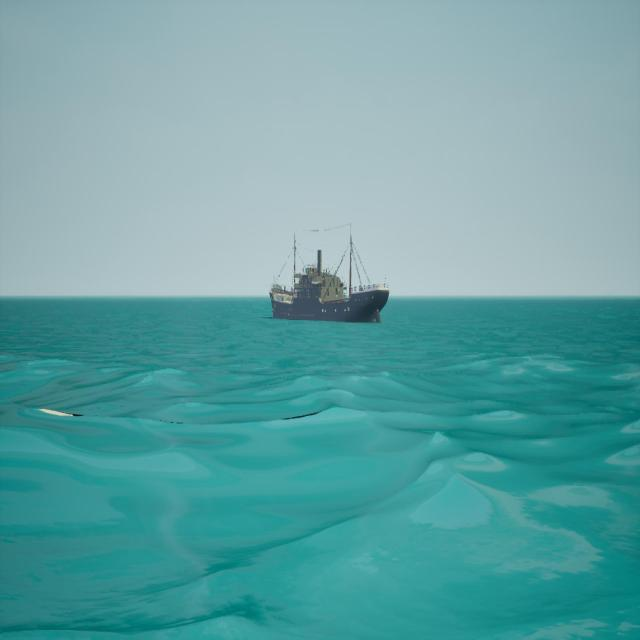fishing ship: (269, 227, 389, 325)
